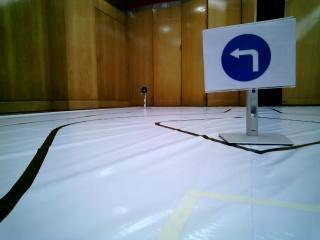left: (206, 30, 290, 81)
